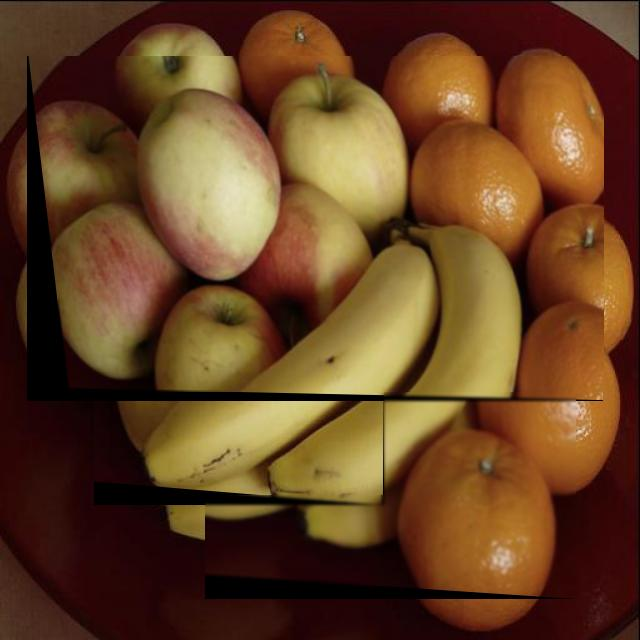Apple: (205, 214, 576, 586)
Banana: (58, 56, 603, 392)
Orange: (95, 215, 384, 495)
